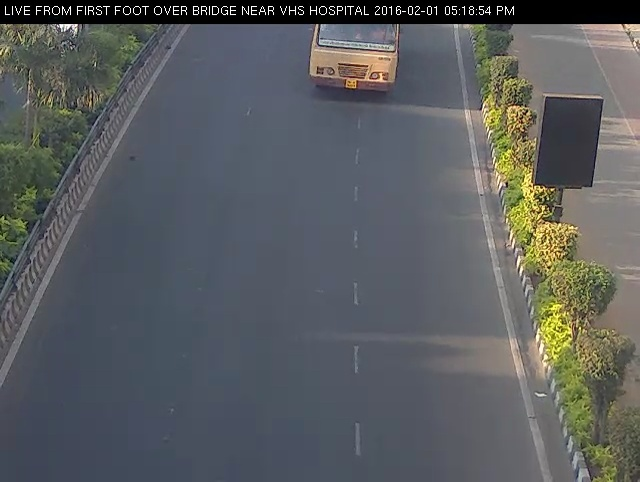Bus: (294, 16, 421, 103)
